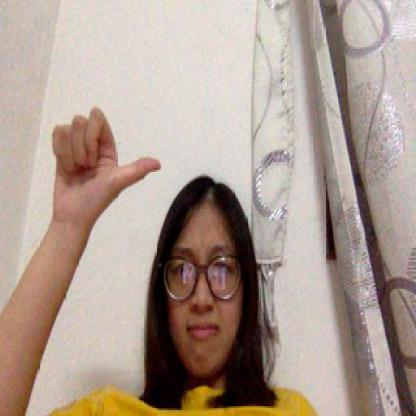left: (52, 106, 164, 224)
